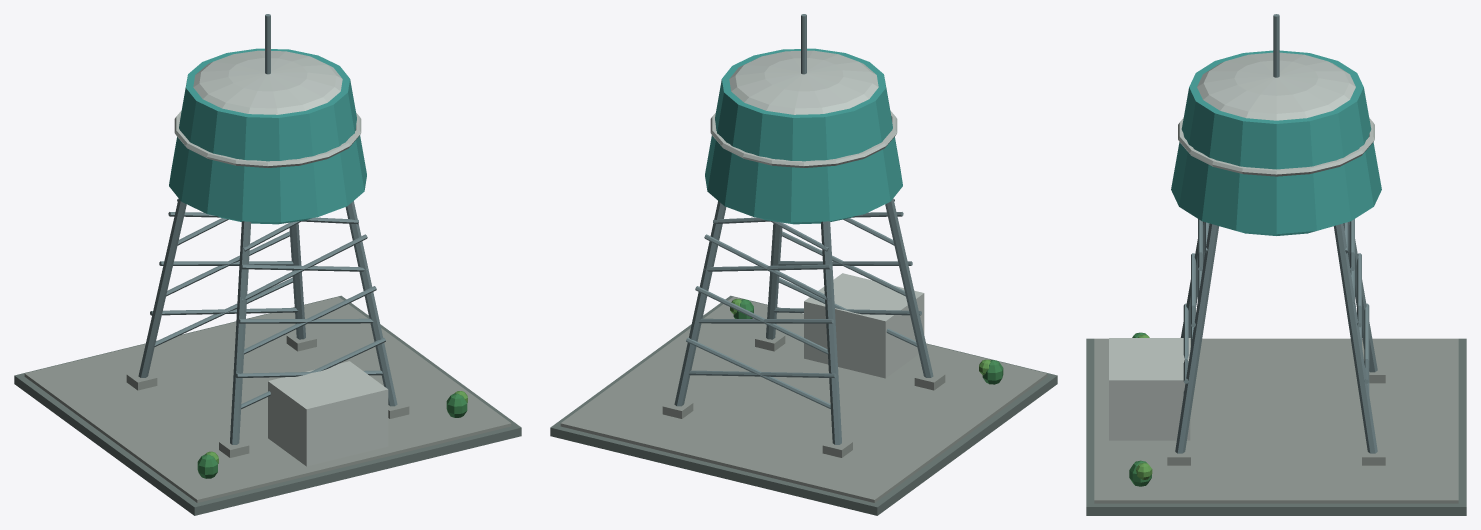
File: water_lv1.glb
The picture shows the model from 3 angles, left to right: view 1: azimuth 30°, elevation 25°; view 2: azimuth 150°, elevation 25°; view 3: azimuth 270°, elevation 25°; orthographic projection. The views are drawn at different scales.
Visible parts, largest first — view 1: rough, metallic; view 2: rough, metallic; view 3: rough, metallic.
Boxes of the visible parts, x1,y1,x2,y2 form: rough: [14, 48, 521, 515]; metallic: [138, 14, 397, 444]; rough: [550, 48, 1057, 515]; metallic: [674, 14, 933, 444]; rough: [1086, 50, 1466, 515]; metallic: [1175, 14, 1377, 453].
Bounding box in the file's own units: 8.8 × 10.15 × 8.4.
